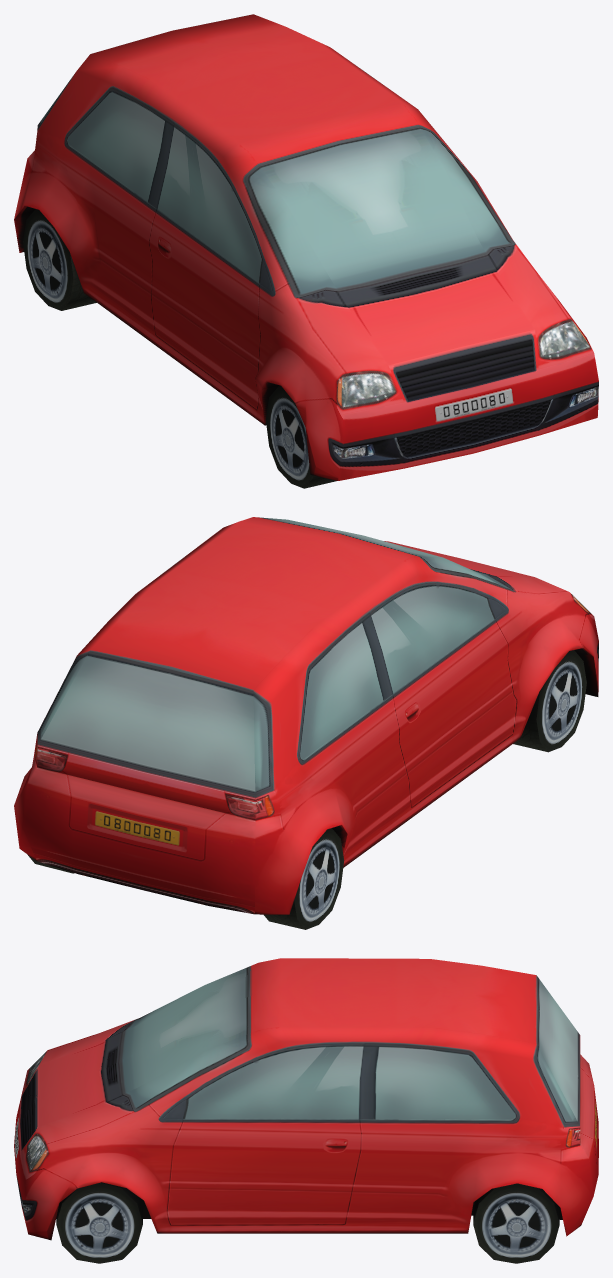
File: Sun_0024_Car_Type1_small_Hatchback.fbx
3 views of the same model, one above another, from view 1: azimuth 30°, elevation 25°; view 2: azimuth 150°, elevation 25°; view 3: azimuth 270°, elevation 25° (orthographic). The views are drawn at different scales.
Parts seen in each view (by area): view 1: Sun_0024_Car_Type1_small_Hatchback; view 2: Sun_0024_Car_Type1_small_Hatchback; view 3: Sun_0024_Car_Type1_small_Hatchback.
Part boxes in pixels (x1=…): Sun_0024_Car_Type1_small_Hatchback: x1=14, y1=14, x2=598, y2=488; Sun_0024_Car_Type1_small_Hatchback: x1=14, y1=517, x2=598, y2=929; Sun_0024_Car_Type1_small_Hatchback: x1=14, y1=958, x2=598, y2=1263.
Bounding box in the file's own units: 192 × 163 × 393.
